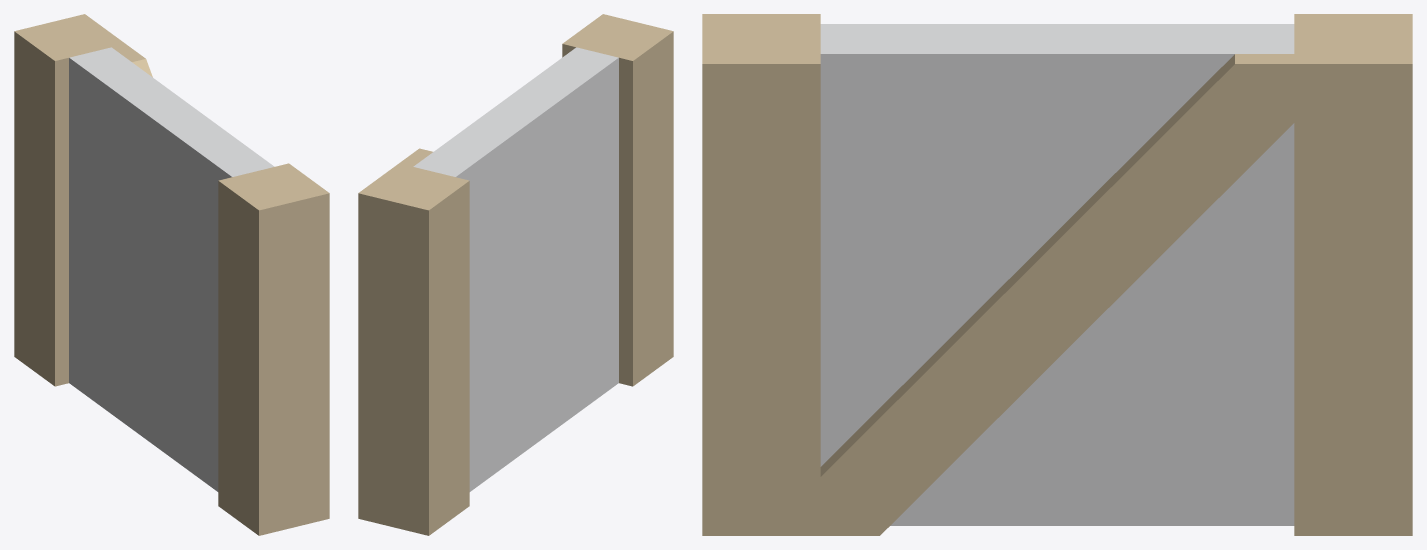
Rendered from Wood_Wall_Cross_01.glb.
3 renders of one model, left to right at view 1: azimuth 30°, elevation 25°; view 2: azimuth 150°, elevation 25°; view 3: azimuth 270°, elevation 25°, orthographic. The views are drawn at different scales.
Visible parts, largest first — view 1: Wood_Wall_Cross_01; view 2: Wood_Wall_Cross_01; view 3: Wood_Wall_Cross_01.
Part boxes in pixels (x1,y1,x2,y2): Wood_Wall_Cross_01: (14, 14, 329, 535); Wood_Wall_Cross_01: (358, 14, 673, 535); Wood_Wall_Cross_01: (702, 14, 1412, 535).
Bounding box in the file's own units: 0.5001 × 2.2 × 3.
